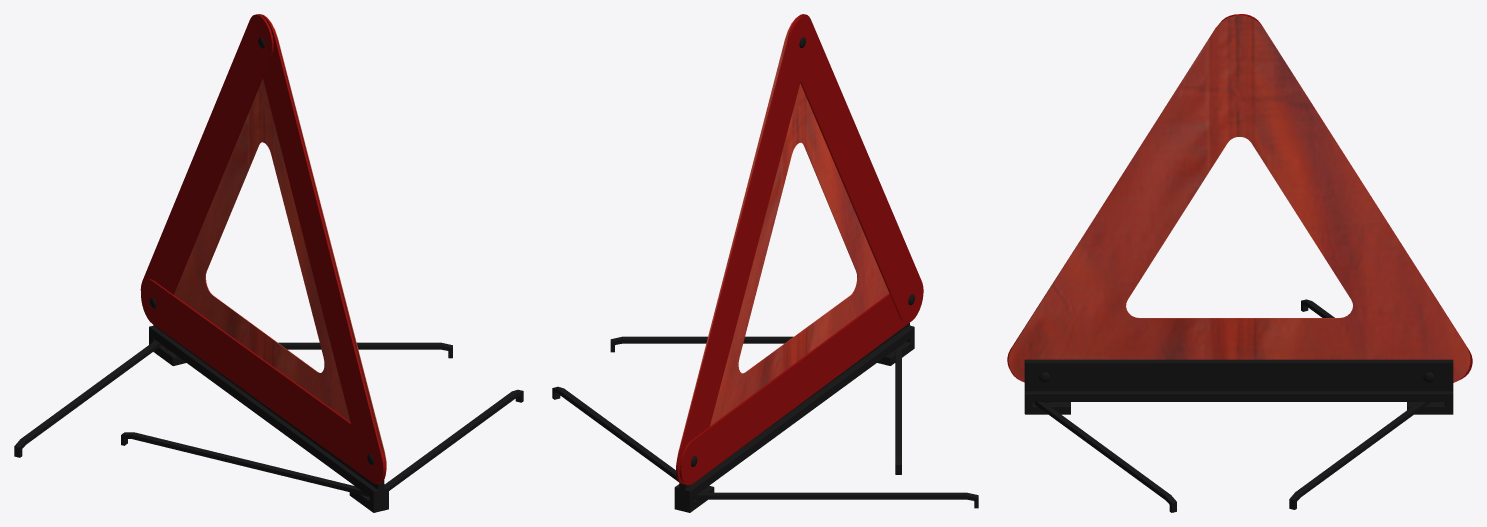
Rendered from WarningTriangle.FBX.
The picture shows the model from 3 angles, left to right: view 1: azimuth 30°, elevation 25°; view 2: azimuth 150°, elevation 25°; view 3: azimuth 270°, elevation 25°; orthographic projection. The views are drawn at different scales.
Parts seen in each view (by area): view 1: sanjiaojia; view 2: sanjiaojia; view 3: sanjiaojia.
Part boxes in pixels (x1,y1,x2,y2): sanjiaojia: (14,14,523,512); sanjiaojia: (552,14,978,512); sanjiaojia: (1007,14,1472,512).
Bounding box in the file's own units: 0.748 × 0.6749 × 0.7215.
3 materials, 1 textured.
